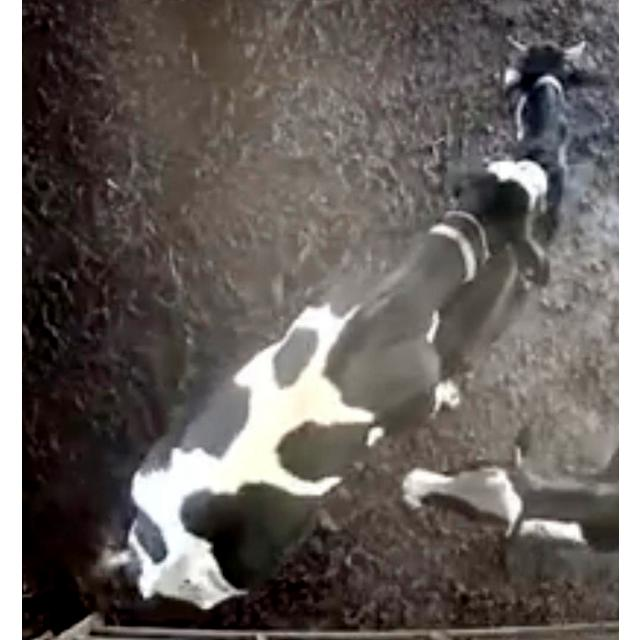ride: (66, 128, 552, 612)
